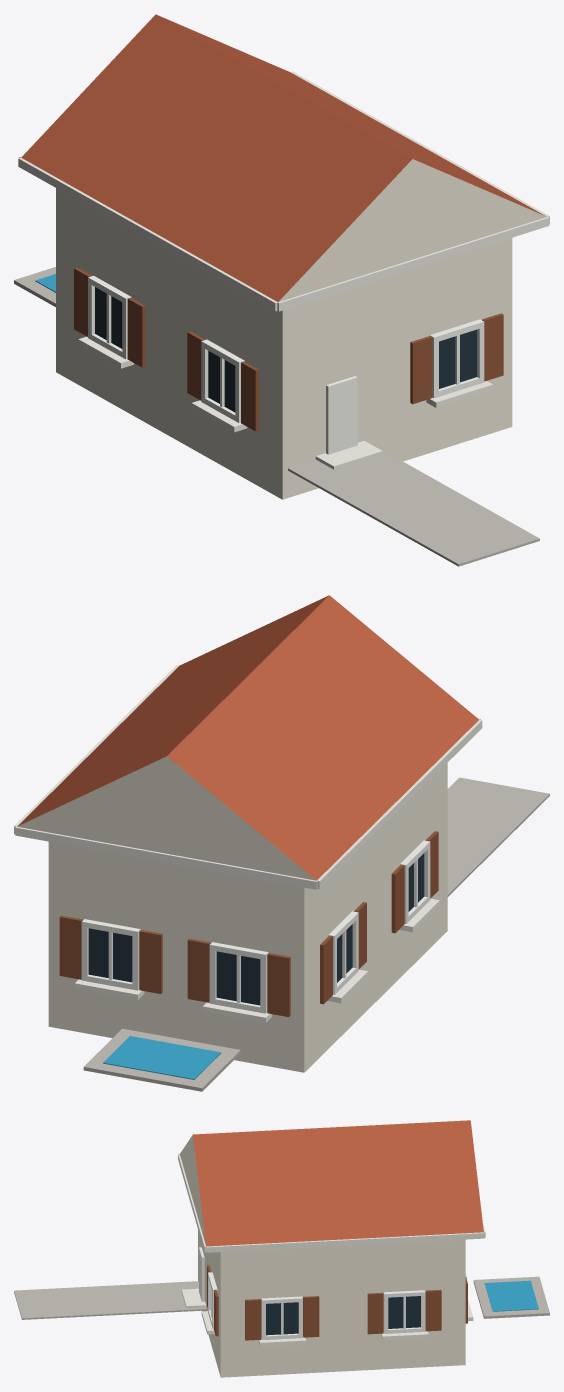
The picture shows the model from 3 angles, top to bottom: view 1: azimuth 30°, elevation 25°; view 2: azimuth 150°, elevation 25°; view 3: azimuth 270°, elevation 25°; orthographic projection. The views are drawn at different scales.
Parts seen in each view (by area): view 1: b8912; view 2: b8912; view 3: b8912.
Boxes of the visible parts, x1=… form: b8912: x1=14, y1=14, x2=549, y2=566; b8912: x1=14, y1=595, x2=549, y2=1091; b8912: x1=14, y1=1120, x2=549, y2=1377.
Bounding box in the file's own units: 3859 × 3398 × 8068.
